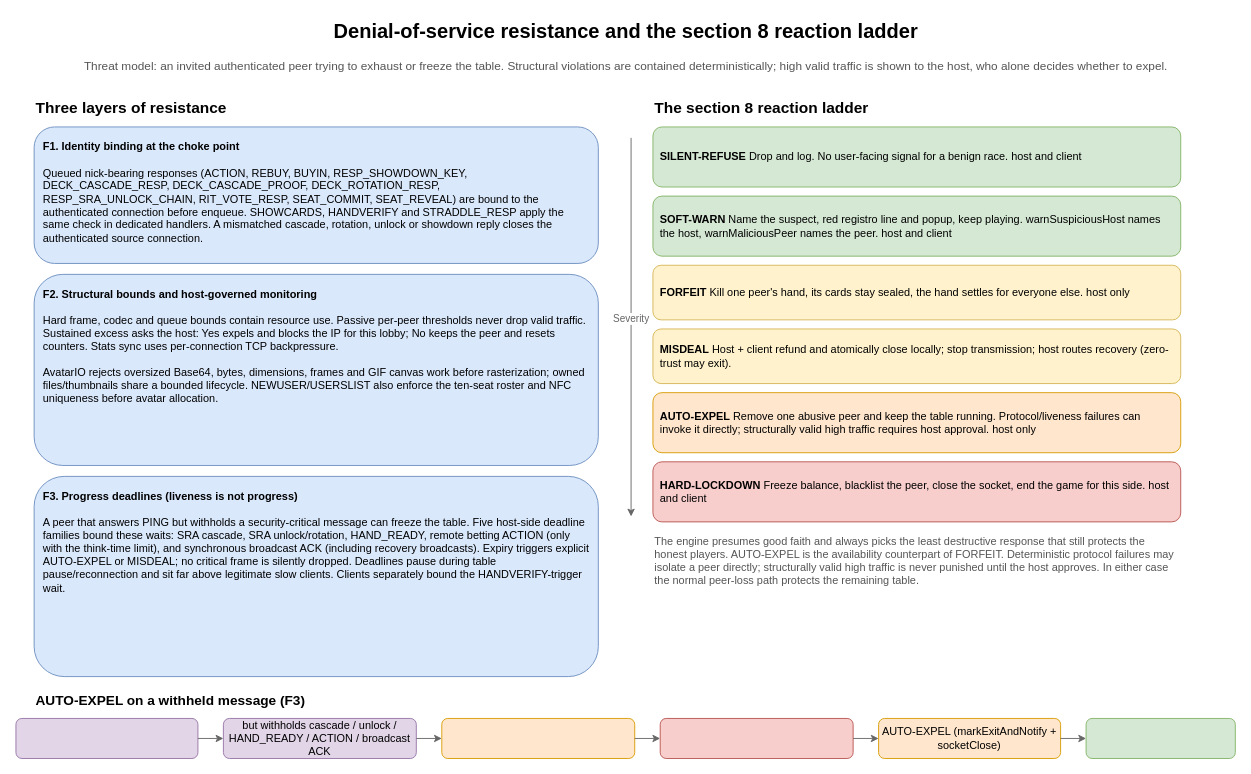
This 1251x774 diagram has some shape labels left out. Here are the shapes that lost their labels. From the top down, the centre of each, then its label:
point 106,738: Peer answers PING (looks alive)
point 538,738: Progress deadline expires (pause-aware, far above any slow client)
point 756,738: warnMaliciousPeer: red registro line and popup, names the peer
point 1160,738: Table continues without the peer (fold synthesised, or dropped from pending)
